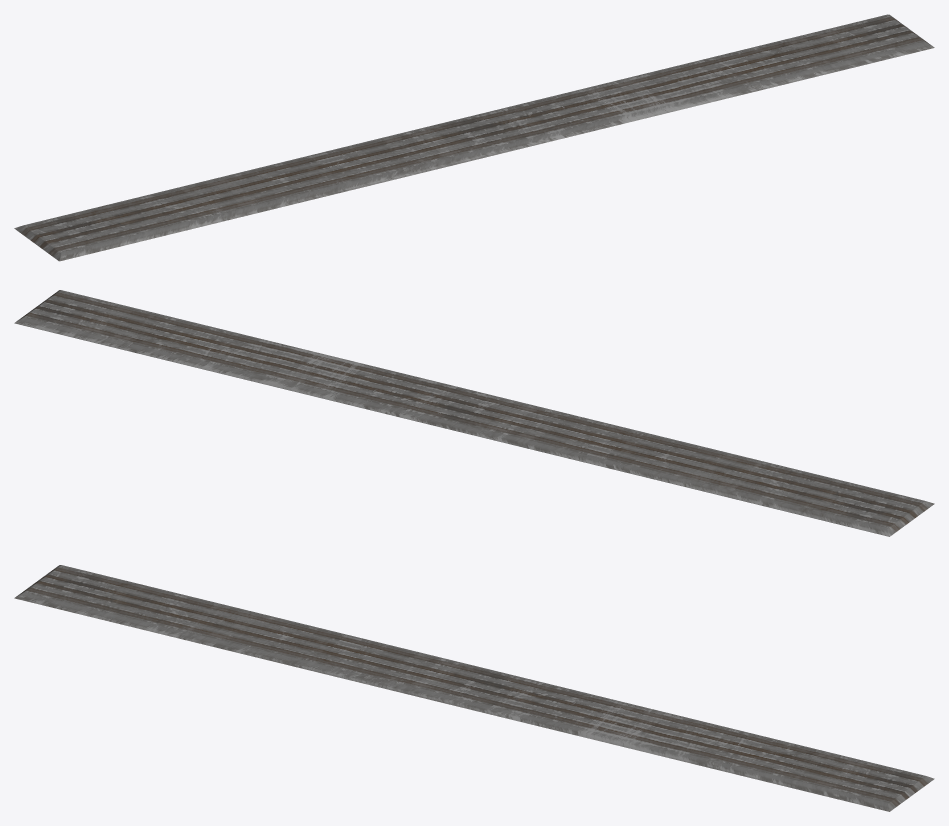
Rendered from Doorframe_lower.fbx.
3 renders of one model, top to bottom at view 1: azimuth 30°, elevation 25°; view 2: azimuth 150°, elevation 25°; view 3: azimuth 330°, elevation 25°, orthographic.
Visible parts, largest first — view 1: Doorframe_lower; view 2: Doorframe_lower; view 3: Doorframe_lower.
Part boxes in pixels (box(x1,y1,x2,y2)): Doorframe_lower: box(14, 14, 934, 261); Doorframe_lower: box(14, 290, 934, 536); Doorframe_lower: box(14, 565, 934, 811).
Size of the model in its own units: 575 by 2.53 by 51.53.
